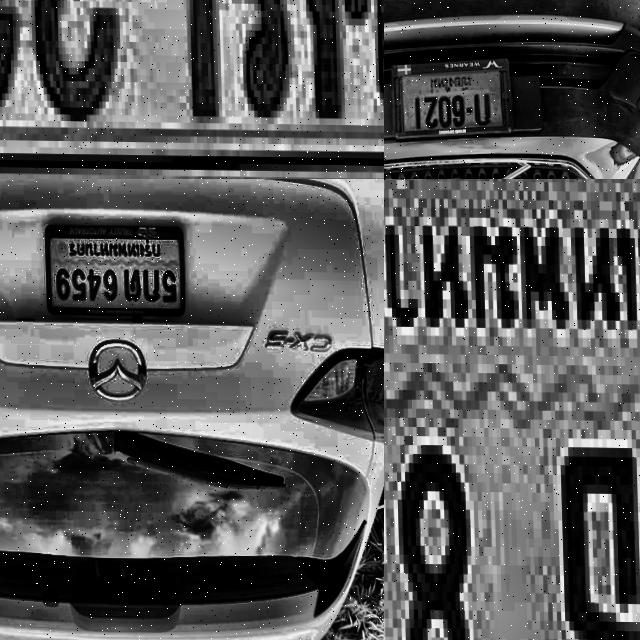license-plate: (384, 179, 640, 640), (0, 0, 384, 179), (40, 220, 185, 320), (390, 54, 509, 139)
